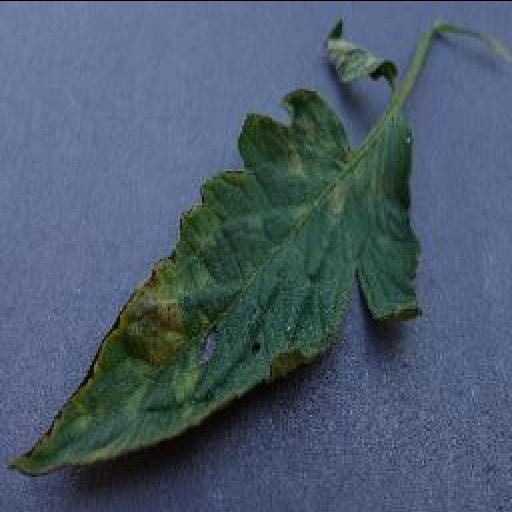disease_tomato: (5, 88, 427, 480)
